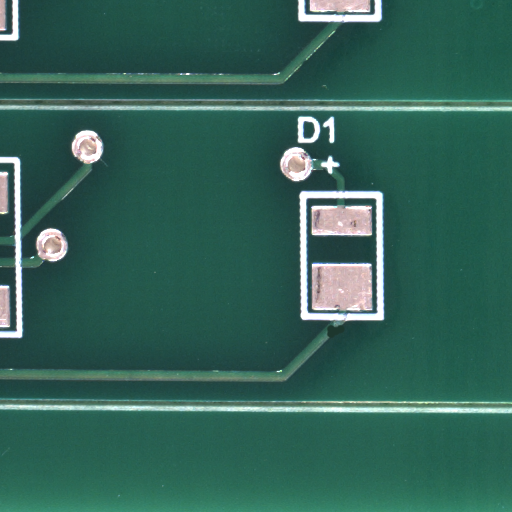Mouse_bite: (335, 331, 353, 344)
